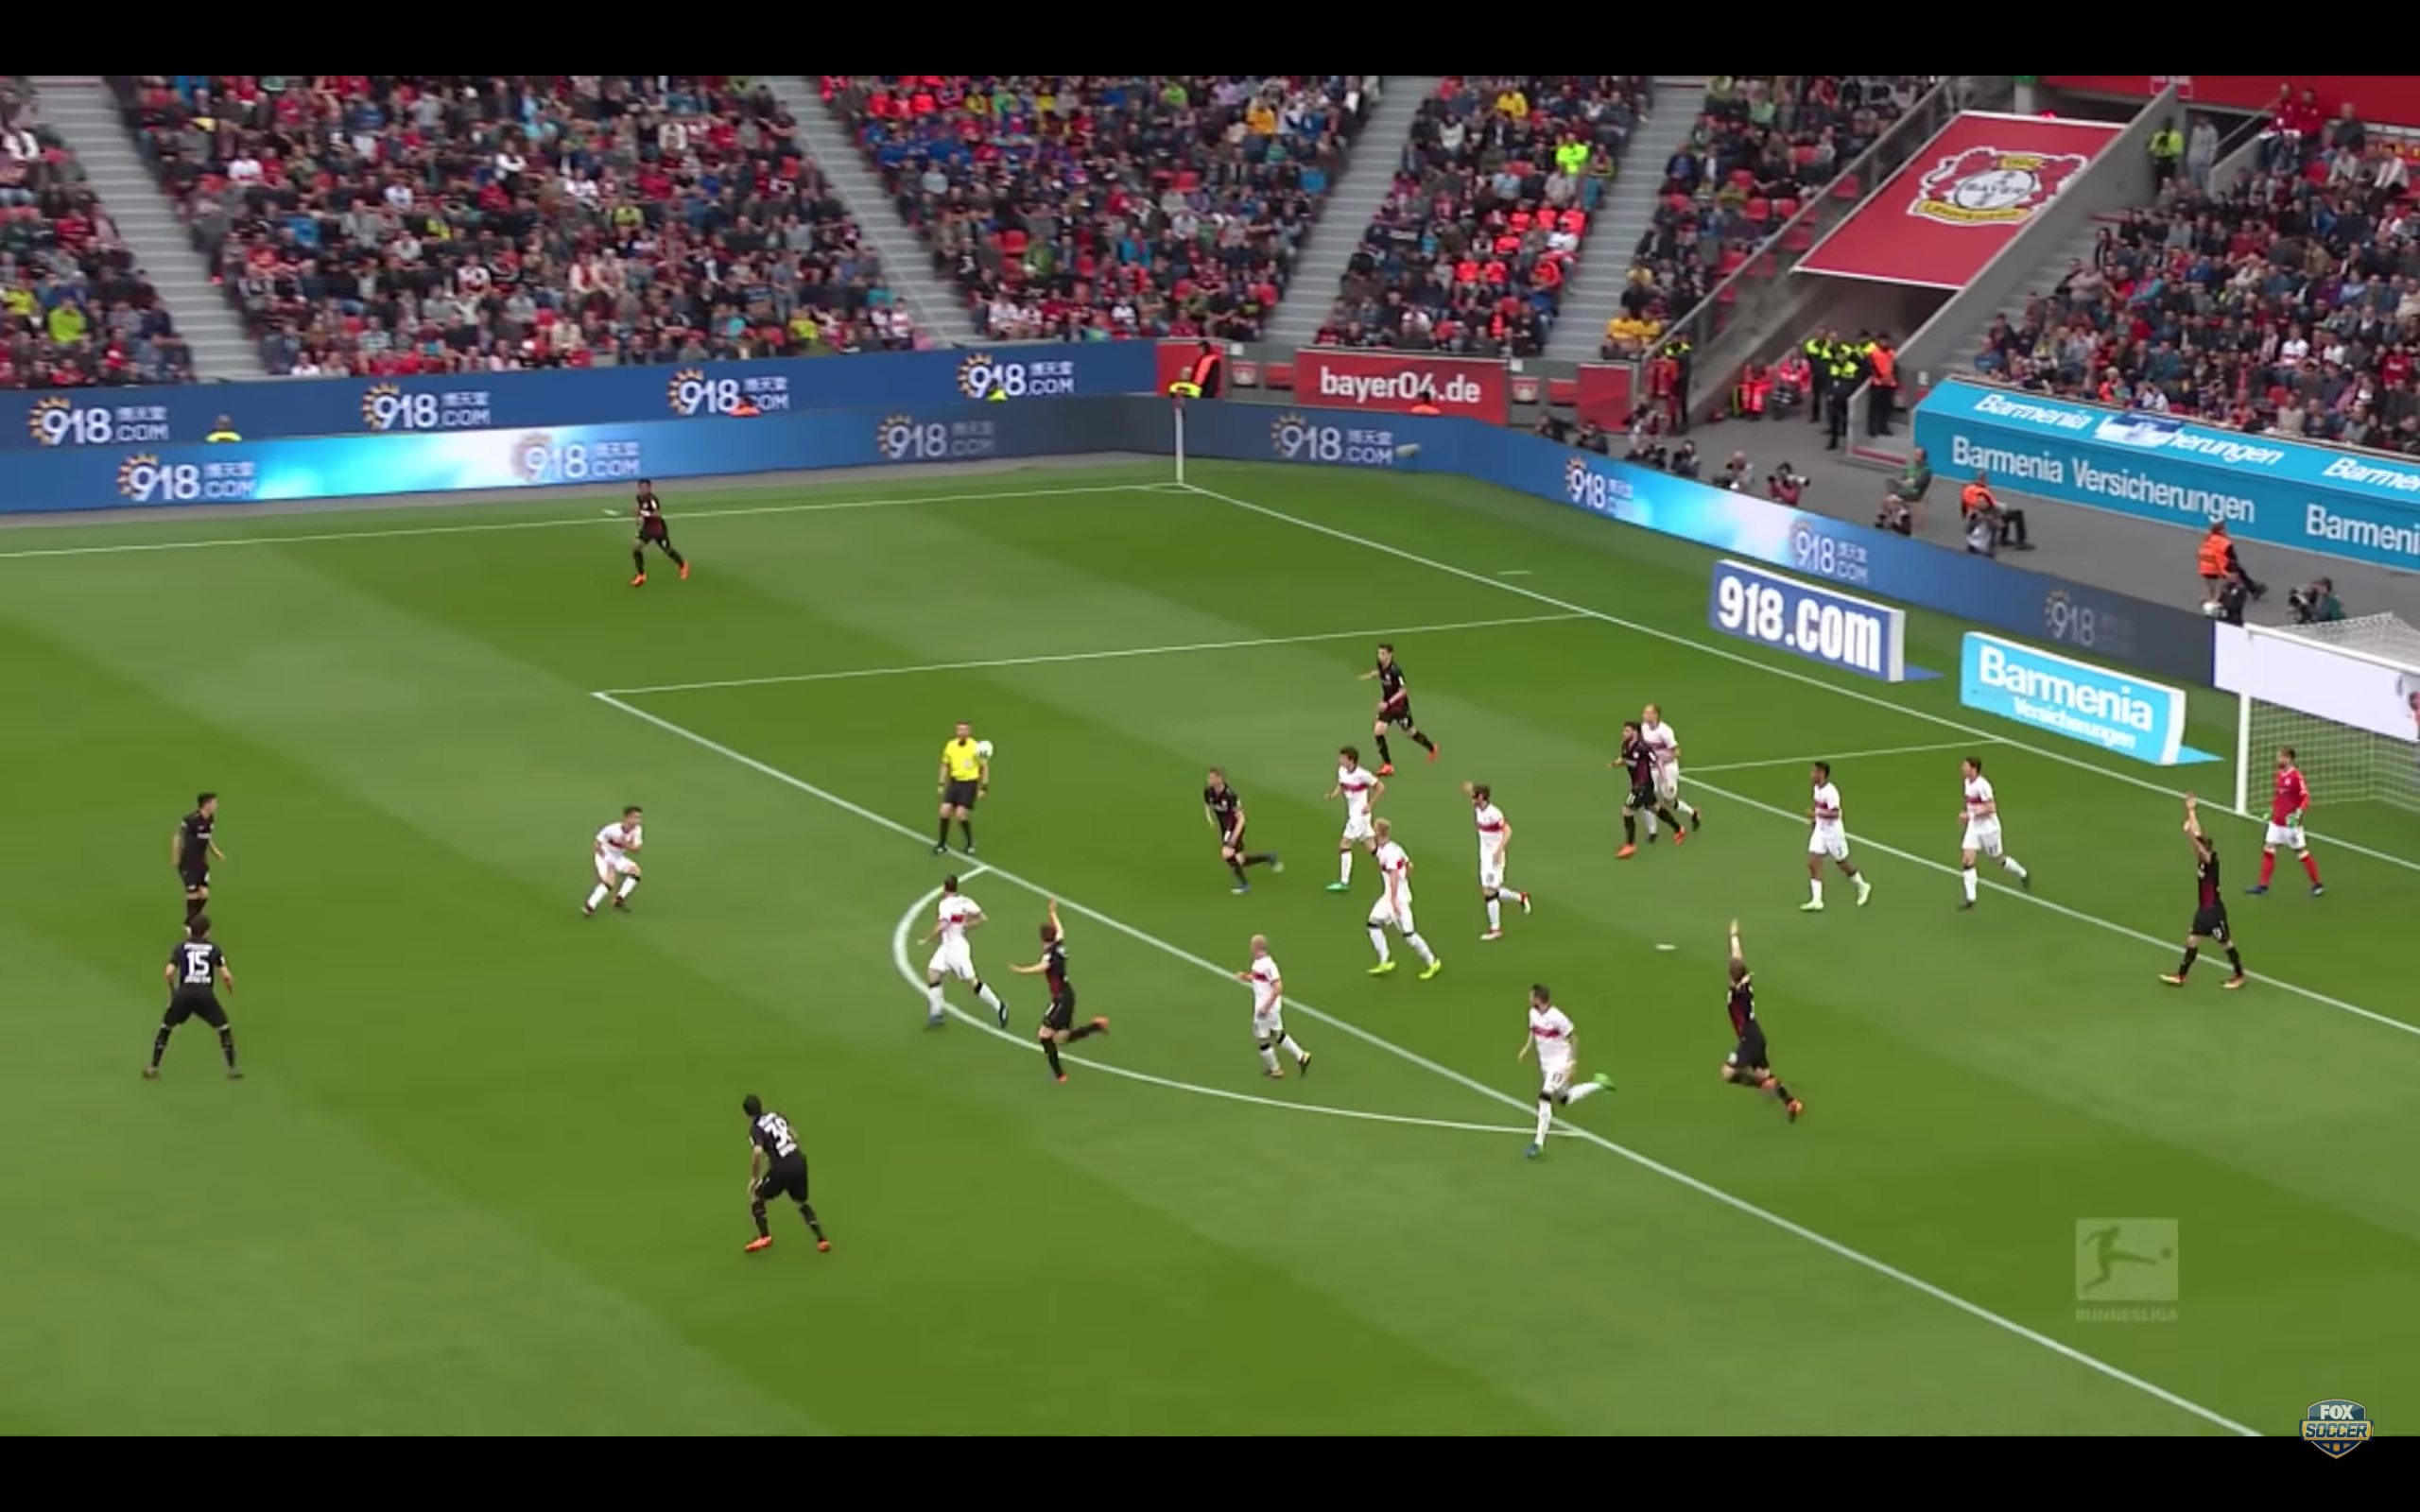referee: (923, 721, 993, 861)
soccer ball: (971, 737, 1000, 767)
soccer player: (1495, 971, 1628, 1165), (2152, 786, 2256, 999), (1003, 895, 1117, 1091), (717, 1090, 842, 1263), (1709, 920, 1808, 1134), (905, 873, 1018, 1039), (1215, 924, 1324, 1089), (144, 915, 247, 1084), (1933, 755, 2038, 919), (1347, 816, 1448, 987), (1175, 761, 1293, 904), (1779, 761, 1880, 916), (1453, 776, 1539, 947), (2240, 747, 2332, 906), (1588, 723, 1693, 861), (1354, 629, 1443, 778), (1312, 747, 1391, 895), (154, 789, 237, 928), (565, 801, 659, 924), (608, 475, 699, 597), (1636, 705, 1707, 836)
